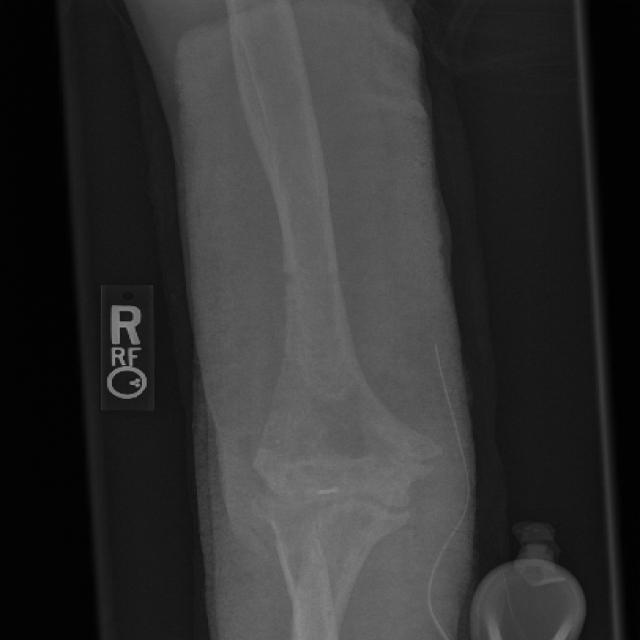elbow positive: (355, 408, 462, 515)
